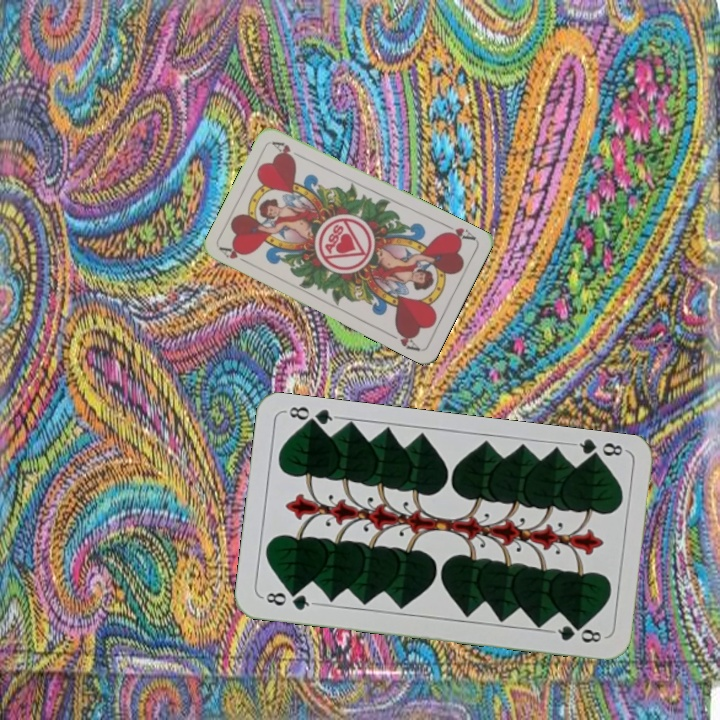G8: (569, 436, 628, 465), (259, 587, 318, 613)
HA: (439, 219, 478, 244), (217, 243, 254, 268)
